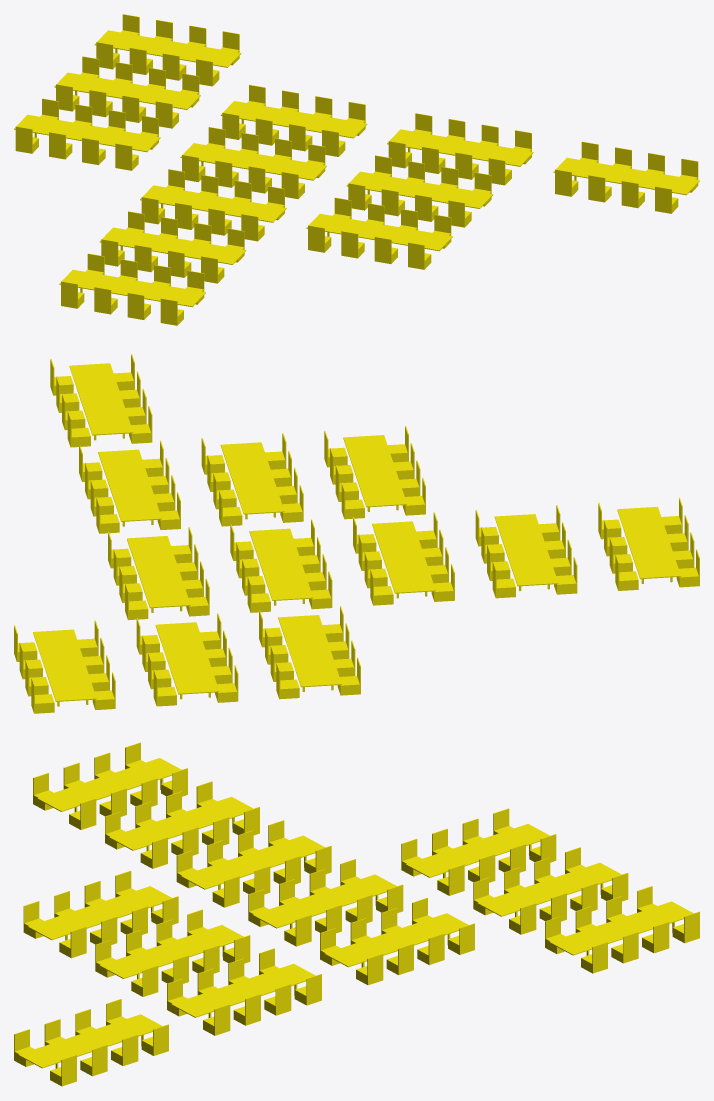
File: office-layout.glb
3 views of the same model, one above another, from view 1: azimuth 30°, elevation 25°; view 2: azimuth 150°, elevation 25°; view 3: azimuth 270°, elevation 25° (orthographic). The views are drawn at different scales.
Visible parts, largest first — view 1: no_transformations; view 2: no_transformations; view 3: no_transformations.
Part boxes in pixels (bbox=[...]): no_transformations: bbox=[14, 14, 699, 325]; no_transformations: bbox=[14, 354, 699, 713]; no_transformations: bbox=[14, 742, 699, 1086].
Bounding box in the file's own units: 38.69 × 1.5 × 35.31.
